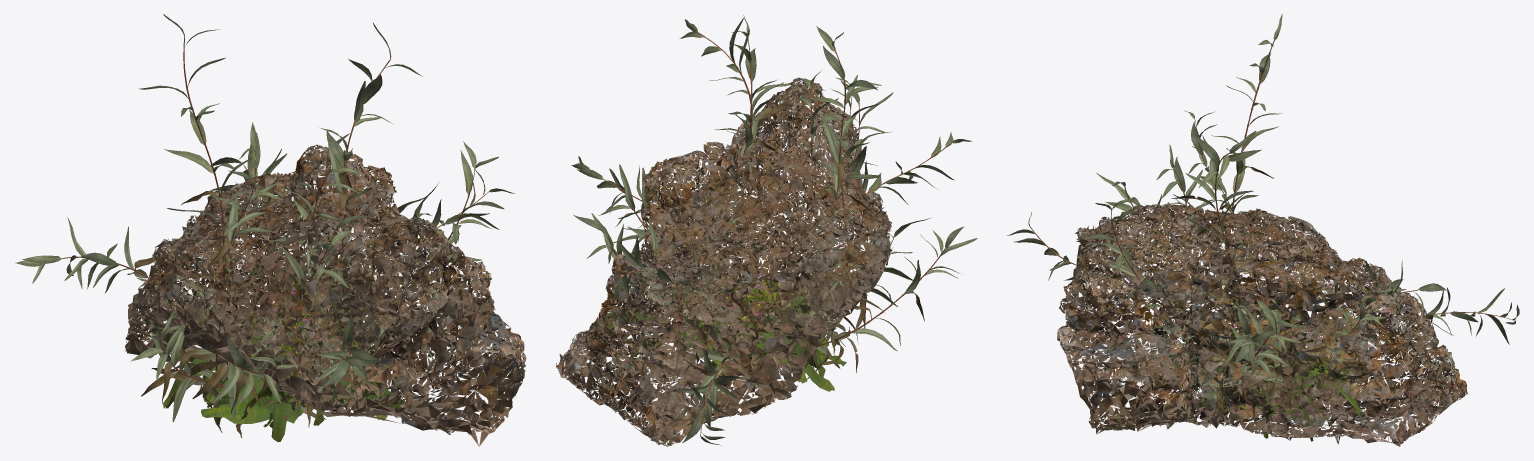
The model's file is veg.glb.
The picture shows the model from 3 angles, left to right: view 1: azimuth 30°, elevation 25°; view 2: azimuth 150°, elevation 25°; view 3: azimuth 270°, elevation 25°; orthographic projection. The views are drawn at different scales.
Visible parts, largest first — view 1: boulder_01, shrub_02_c, shrub_02_a, shrub_02_b, shrub_02_d, fern_02_b, fern_02_c; view 2: boulder_01, shrub_02_c, shrub_02_a, shrub_02_b, shrub_02_d, fern_02_b, fern_02_c; view 3: boulder_01, shrub_02_a, shrub_02_b, shrub_02_c, shrub_02_d, fern_02_b, fern_02_c.
Boxes of the visible parts, box(x1,y1,x2,y2) form: boulder_01: box(125, 144, 526, 446); shrub_02_c: box(15, 122, 515, 432); shrub_02_a: box(139, 14, 504, 437); shrub_02_b: box(170, 23, 428, 419); shrub_02_d: box(136, 133, 456, 427); fern_02_b: box(162, 276, 407, 442); fern_02_c: box(201, 316, 388, 427); boulder_01: box(556, 77, 892, 446); shrub_02_c: box(571, 77, 977, 445); shrub_02_a: box(598, 15, 893, 364); shrub_02_b: box(618, 17, 932, 386); shrub_02_d: box(573, 71, 853, 369); fern_02_b: box(593, 282, 835, 391); fern_02_c: box(629, 295, 846, 386); boulder_01: box(1057, 202, 1468, 446); shrub_02_a: box(1079, 14, 1446, 425); shrub_02_b: box(1120, 131, 1406, 411); shrub_02_c: box(1007, 110, 1519, 377); shrub_02_d: box(1139, 145, 1386, 400); fern_02_b: box(1163, 333, 1362, 438); fern_02_c: box(1181, 332, 1347, 441).
Size of the model in its own units: 1.77 by 1.69 by 2.29.
Materials: 8 (8 with a texture image).
